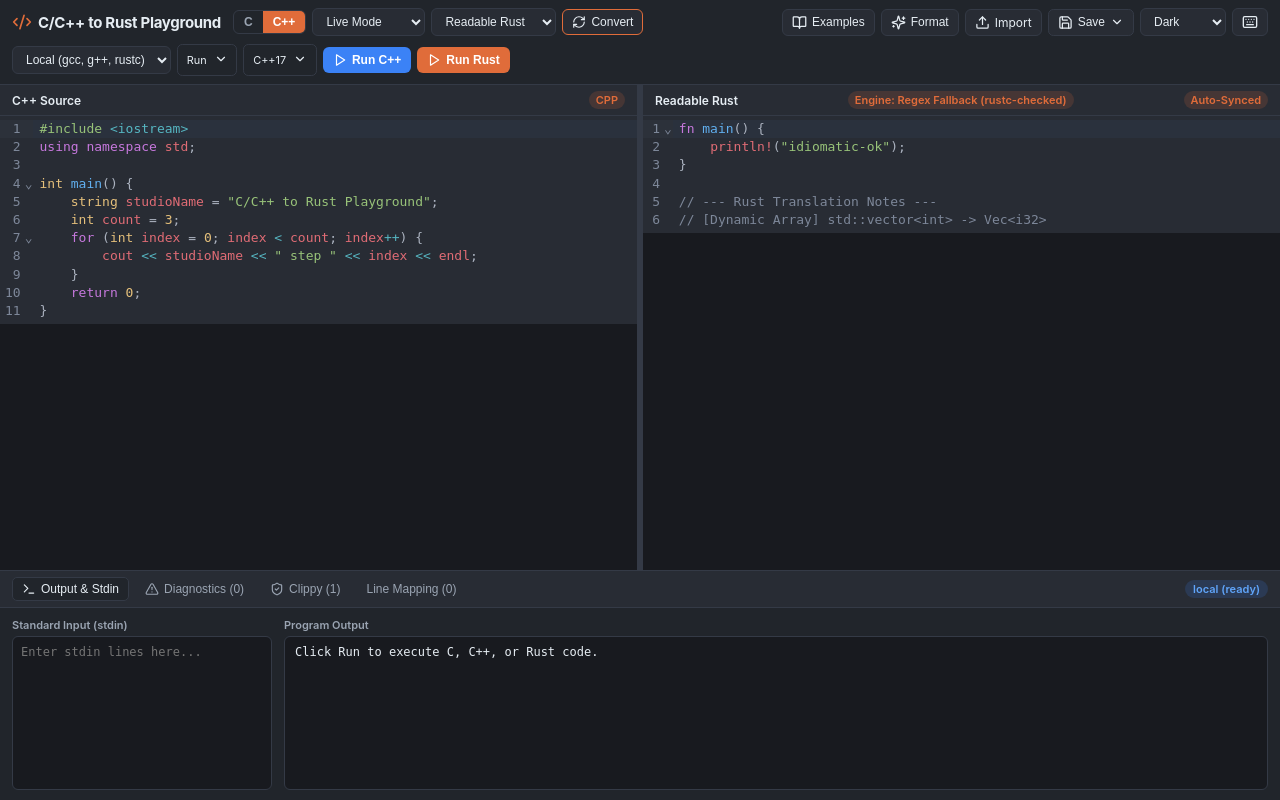
it: App component › shows clippy lints for the generated Rust
Click the button with test id "clippy-tab" at [305, 589], box [260,577,350,601]
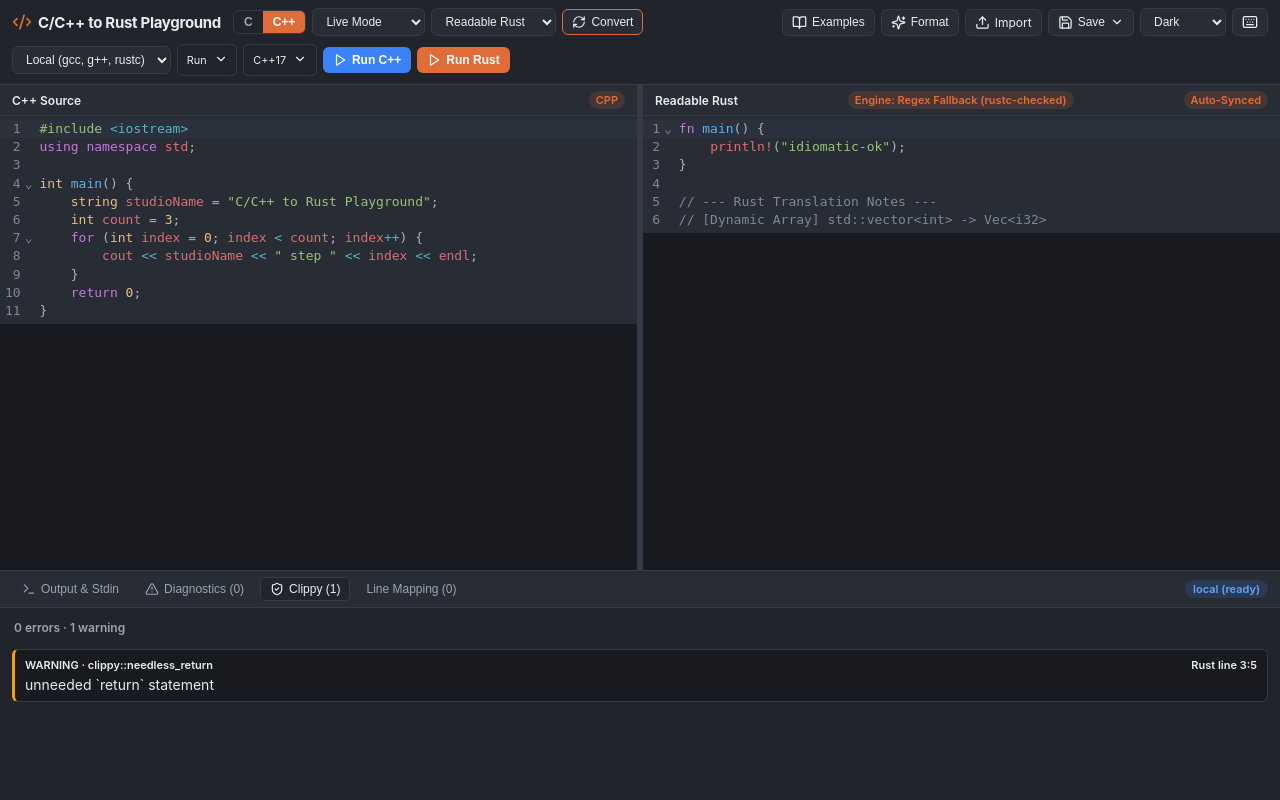
Now the text with test id "clippy-summary" reads "0 errors · 1 warning", box [14,620,125,635]
Now the element with test id "clippy-list" shows "clippy::needless_return", box [12,649,1268,702]
Now the element with test id "clippy-list" shows "unneeded `return` statement", box [12,649,1268,702]
